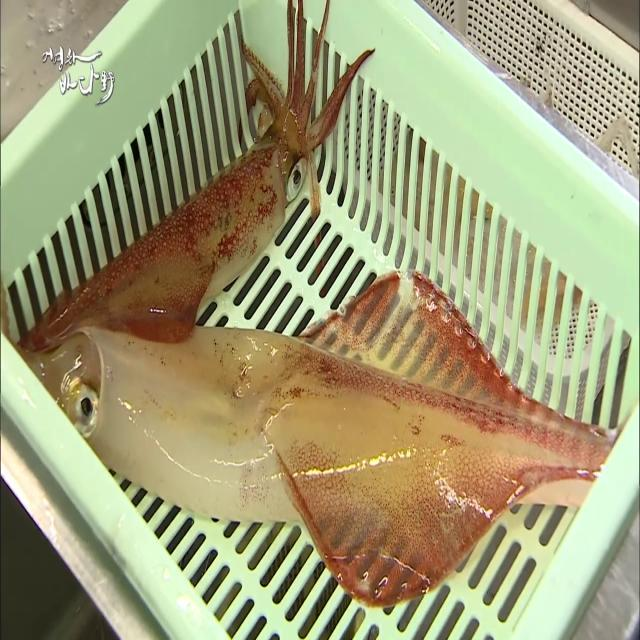SQUID: (50, 267, 627, 620), (0, 0, 393, 365)
